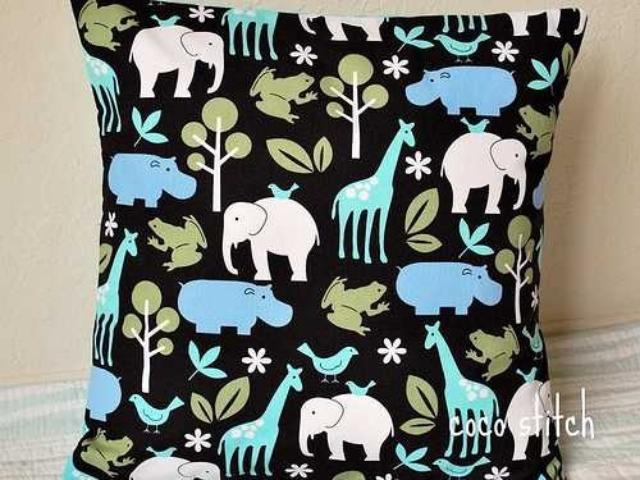pillow: (63, 0, 587, 478)
